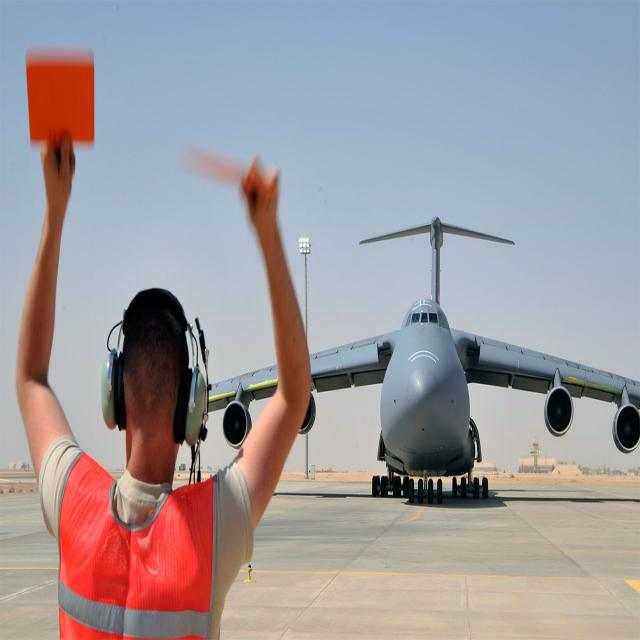MIL_Plane: (207, 215, 640, 505)
